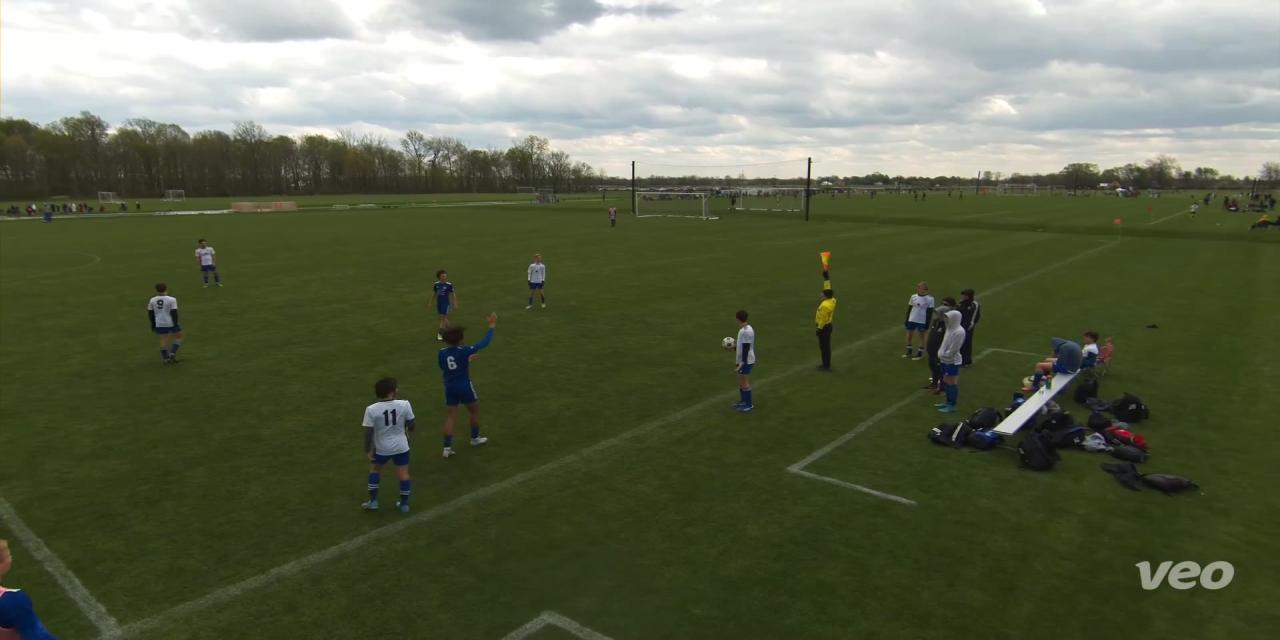goal: (626, 182, 724, 228)
sports ball: (715, 332, 740, 354)
